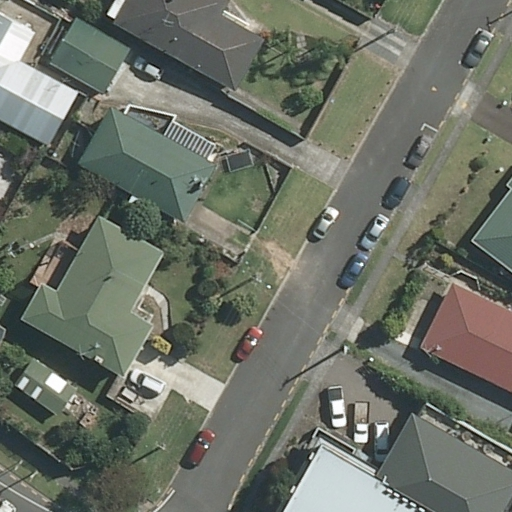DT: (244, 266, 267, 287), (336, 341, 355, 360), (154, 439, 170, 453), (393, 20, 402, 37)
